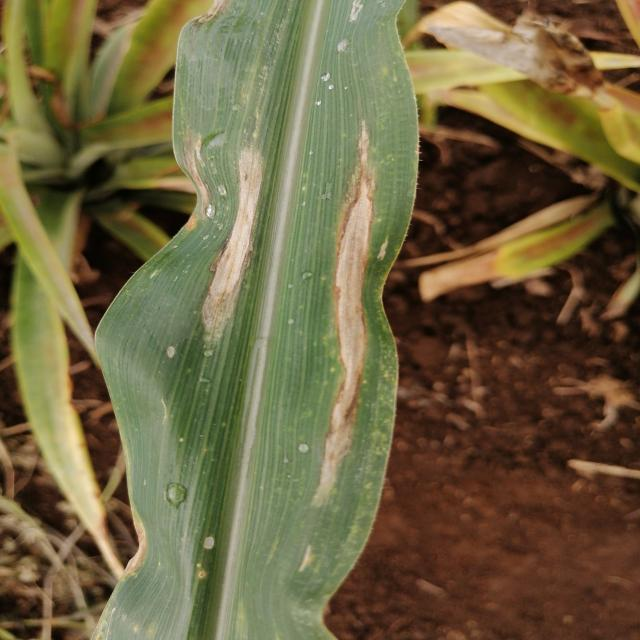Corn_Leaf_Blight: (82, 0, 438, 502)
